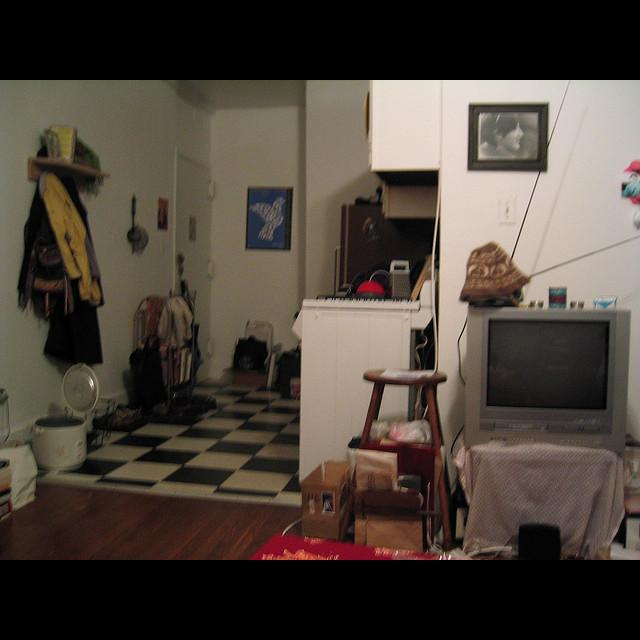Flat-Panel-TV: (465, 306, 632, 452)
